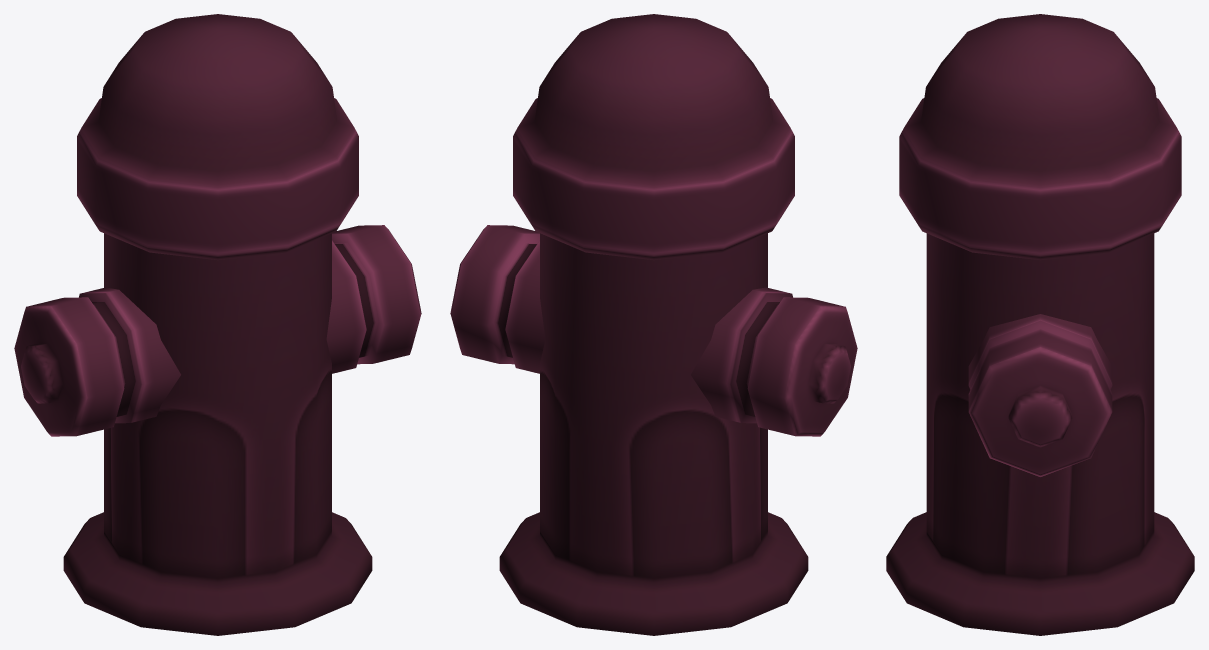
The model's file is mesh_firehydrant.fbx.
3 renders of one model, left to right at view 1: azimuth 30°, elevation 25°; view 2: azimuth 150°, elevation 25°; view 3: azimuth 270°, elevation 25°, orthographic.
Parts seen in each view (by area): view 1: mesh_firehydrant; view 2: mesh_firehydrant; view 3: mesh_firehydrant.
Boxes of the visible parts, x1,y1,x2,y2 form: mesh_firehydrant: [14, 14, 421, 635]; mesh_firehydrant: [450, 14, 857, 635]; mesh_firehydrant: [886, 14, 1194, 635].
Size of the model in its own units: 53.22 by 75 by 38.6.
